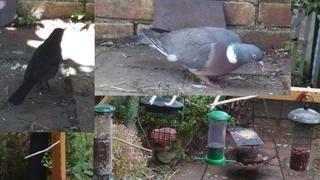blackbird: (8, 27, 68, 106)
wood pigeon: (121, 27, 264, 89)
